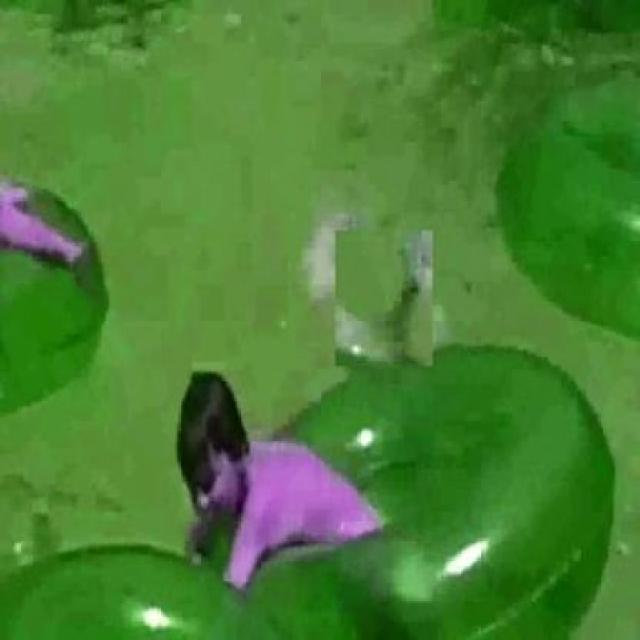drowning: (146, 367, 382, 542), (338, 234, 427, 361)
